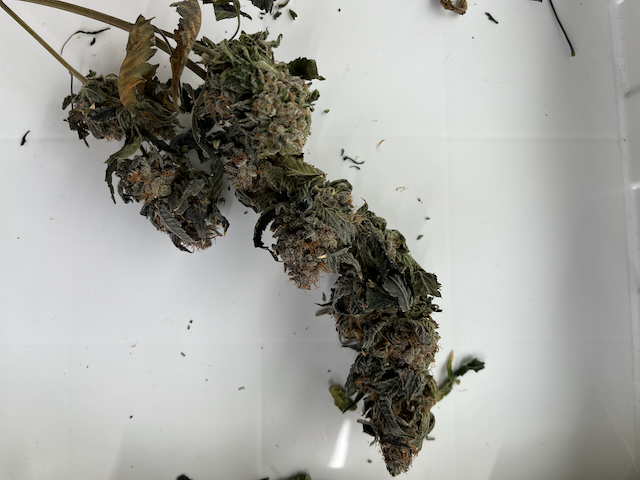Bud: (356, 314, 441, 474), (221, 49, 312, 164), (272, 182, 347, 284), (119, 146, 175, 204)
Leaf: (112, 14, 158, 111), (167, 2, 205, 106), (149, 209, 203, 248), (375, 274, 417, 314)
Stem: (5, 0, 93, 95), (13, 0, 139, 21)
